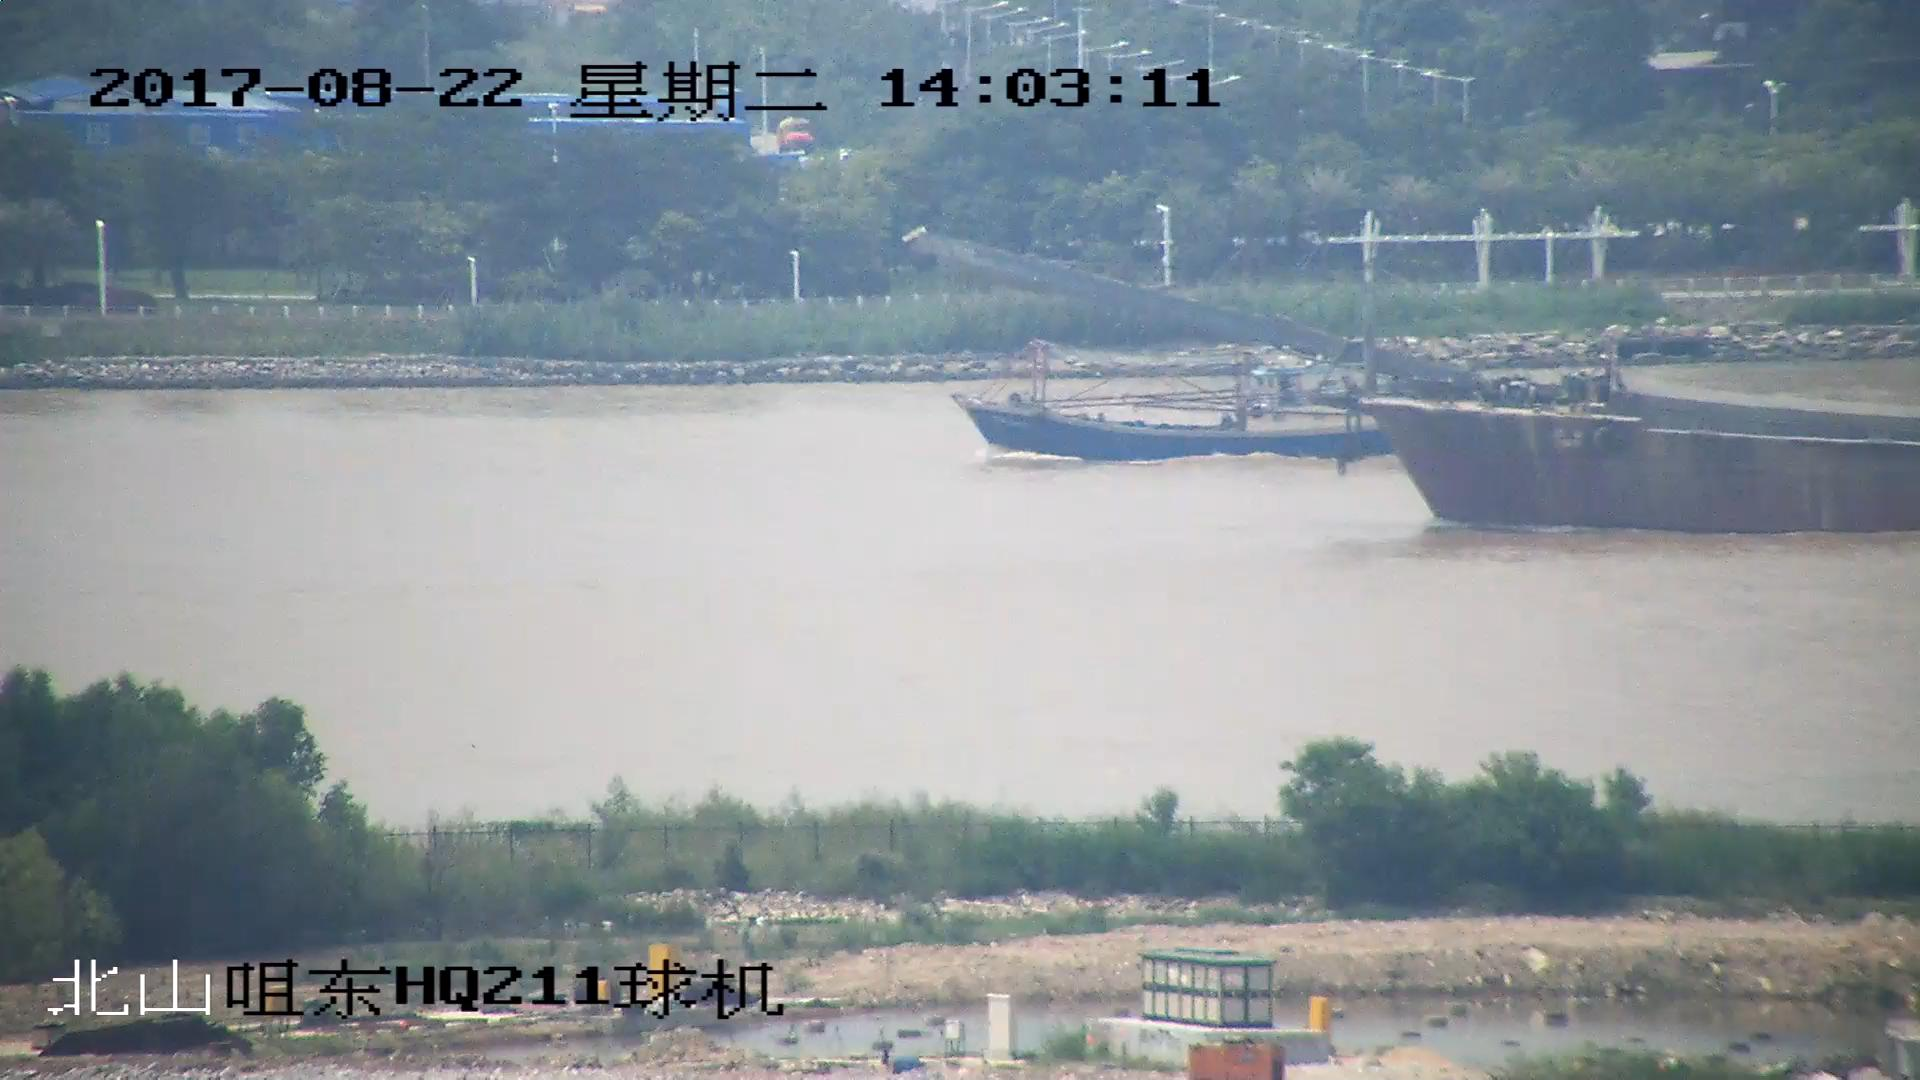bulk cargo carrier: (912, 224, 1920, 536)
fishing boat: (955, 339, 1395, 465)
